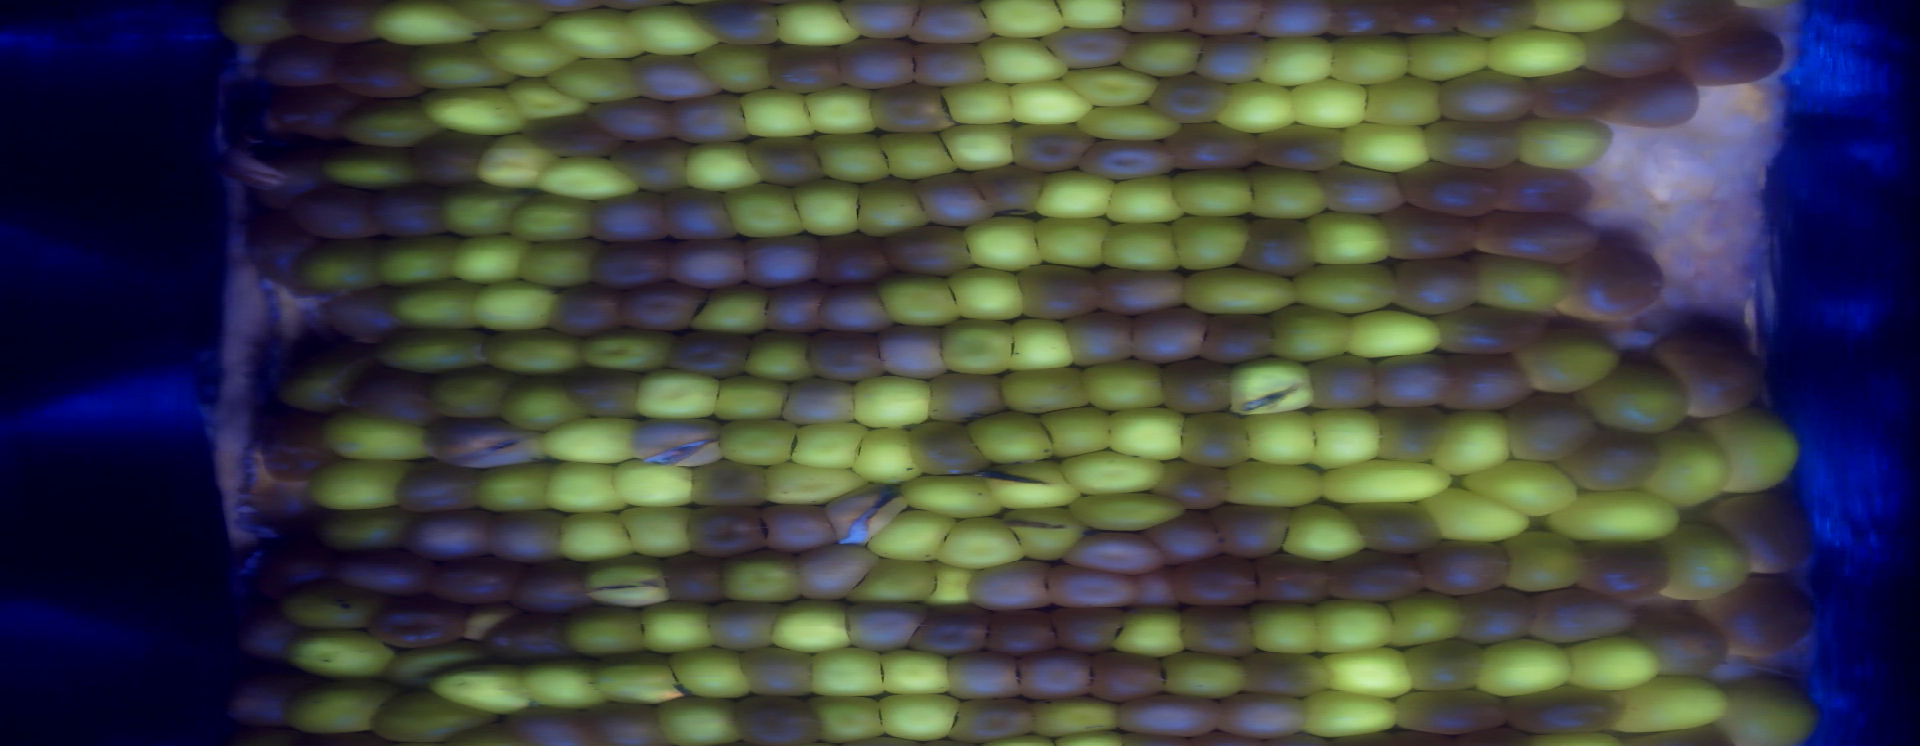fluorescent: (1572, 350, 1697, 440), (1700, 401, 1807, 496), (1545, 486, 1690, 551), (1704, 673, 1828, 746), (1651, 517, 1753, 605), (364, 684, 508, 746), (1513, 323, 1629, 402), (1633, 428, 1739, 512), (1604, 671, 1738, 736), (317, 402, 446, 468), (279, 669, 403, 737), (1455, 454, 1583, 519), (1176, 258, 1308, 321), (1315, 456, 1463, 511), (1467, 249, 1581, 320), (267, 341, 367, 419), (298, 454, 424, 516), (380, 632, 500, 696), (1558, 628, 1673, 695), (1469, 635, 1582, 702), (1414, 485, 1536, 548), (369, 323, 500, 380), (1288, 257, 1408, 318), (425, 658, 540, 722), (529, 412, 650, 472), (278, 622, 397, 684), (273, 577, 397, 636), (1507, 111, 1621, 175), (1273, 501, 1379, 570), (414, 81, 534, 141), (536, 5, 651, 67), (708, 544, 812, 612), (587, 642, 687, 713), (1479, 24, 1600, 83), (1423, 404, 1513, 483), (331, 94, 451, 153), (1496, 527, 1596, 598), (1303, 590, 1404, 659), (1340, 303, 1449, 366), (553, 600, 658, 666), (1331, 116, 1441, 179), (478, 323, 591, 383), (514, 650, 613, 719), (1223, 352, 1321, 420), (996, 502, 1101, 566), (311, 501, 422, 561), (1297, 205, 1400, 269), (1260, 301, 1360, 367), (861, 502, 961, 568), (660, 637, 760, 703), (527, 152, 644, 208), (1213, 456, 1331, 512), (405, 40, 524, 96), (384, 276, 490, 337), (1051, 447, 1173, 500), (498, 372, 598, 437), (627, 361, 726, 426), (470, 27, 584, 83), (718, 179, 816, 244), (1073, 356, 1174, 419), (932, 512, 1033, 575), (992, 361, 1100, 420), (842, 367, 938, 434), (1240, 156, 1332, 224), (936, 314, 1027, 382), (467, 127, 563, 192), (436, 178, 536, 240), (960, 405, 1060, 468), (893, 469, 1011, 522), (618, 1, 722, 61), (1318, 644, 1419, 706), (312, 138, 425, 194), (574, 322, 682, 380), (684, 276, 776, 343), (1300, 402, 1389, 472), (871, 267, 969, 330), (1240, 595, 1331, 663), (1162, 160, 1264, 220), (467, 274, 562, 338), (424, 363, 516, 429), (801, 641, 893, 707), (1296, 685, 1406, 740), (365, 1, 489, 50), (842, 549, 945, 608), (605, 456, 708, 514), (283, 233, 383, 293), (578, 552, 678, 612), (1064, 488, 1190, 535), (463, 458, 557, 522), (971, 31, 1078, 87), (1166, 211, 1256, 277), (1101, 404, 1191, 470), (1322, 29, 1418, 92), (1379, 586, 1471, 650), (1398, 24, 1498, 85), (1207, 77, 1304, 138), (1025, 164, 1122, 225), (370, 230, 467, 292), (763, 597, 860, 658), (943, 260, 1032, 326), (680, 135, 771, 198), (708, 412, 803, 473), (1096, 216, 1189, 278), (956, 211, 1049, 273), (444, 227, 534, 292), (633, 594, 722, 659), (1155, 644, 1258, 701), (1250, 29, 1344, 91), (542, 54, 649, 108), (612, 501, 704, 563), (798, 688, 898, 746), (509, 234, 602, 295), (549, 506, 640, 567), (1027, 211, 1116, 274), (873, 686, 969, 745), (852, 174, 936, 241), (691, 40, 784, 100), (800, 78, 887, 142), (978, 459, 1082, 512), (651, 692, 753, 746), (933, 115, 1022, 176), (1116, 26, 1210, 83), (1032, 401, 1116, 465), (873, 126, 965, 185), (790, 171, 867, 241), (784, 416, 873, 477), (708, 365, 793, 428), (1360, 72, 1451, 131), (1101, 169, 1191, 228), (1104, 603, 1191, 664), (1288, 73, 1376, 134), (536, 454, 624, 514), (1057, 61, 1162, 111), (1000, 311, 1082, 375), (501, 194, 600, 246), (768, 1, 866, 54), (845, 421, 927, 484), (1240, 405, 1322, 468), (733, 85, 820, 143), (869, 642, 958, 699), (736, 327, 820, 387), (208, 1, 309, 51), (809, 127, 895, 186), (498, 71, 595, 122), (1022, 692, 1127, 740), (1002, 76, 1096, 127), (934, 76, 1024, 129), (1073, 104, 1188, 145), (969, 1, 1071, 42), (1524, 1, 1635, 37), (447, 1, 556, 36), (922, 557, 981, 611), (1049, 1, 1131, 33)
nonfluorescent: (1648, 330, 1771, 425), (1696, 573, 1826, 661), (1707, 489, 1823, 577), (220, 131, 342, 209), (1467, 205, 1608, 271), (1559, 243, 1671, 323), (1630, 604, 1738, 688), (1553, 423, 1668, 500), (1495, 680, 1633, 741), (416, 412, 551, 474), (1669, 23, 1795, 89), (246, 517, 338, 606), (1423, 303, 1559, 361), (1502, 385, 1600, 465), (1521, 583, 1642, 648), (1570, 20, 1689, 86), (258, 78, 372, 147), (1392, 157, 1510, 222), (212, 660, 320, 730), (1435, 347, 1540, 418), (1575, 535, 1676, 609), (360, 590, 476, 654), (327, 37, 432, 105), (1600, 70, 1709, 136), (820, 473, 912, 551), (1412, 535, 1520, 601), (1417, 114, 1531, 176), (340, 366, 446, 434), (1389, 684, 1520, 737), (1341, 496, 1453, 559), (328, 543, 438, 606), (1490, 157, 1600, 220), (394, 503, 506, 566), (1434, 65, 1543, 129), (1384, 254, 1487, 321), (606, 134, 703, 205), (1364, 344, 1462, 414), (280, 181, 386, 246), (1325, 545, 1431, 609), (1380, 202, 1487, 265), (1109, 690, 1236, 742), (473, 609, 580, 670), (876, 220, 981, 283), (1013, 260, 1112, 326), (424, 550, 527, 614), (621, 412, 727, 473), (1171, 597, 1267, 664), (1247, 119, 1357, 178), (1057, 529, 1173, 584), (1158, 119, 1267, 178), (1526, 69, 1635, 127), (622, 47, 729, 107), (223, 597, 312, 668), (1167, 550, 1269, 612), (389, 454, 485, 521), (725, 687, 831, 746), (1236, 644, 1342, 703), (1084, 263, 1194, 320), (1124, 303, 1216, 370), (835, 597, 932, 660), (273, 1, 394, 51), (1035, 559, 1147, 612), (659, 234, 756, 296), (612, 274, 709, 337), (965, 556, 1062, 619), (400, 126, 493, 191), (1233, 213, 1322, 281), (518, 110, 627, 165), (251, 29, 345, 93), (1142, 510, 1237, 573), (1206, 686, 1318, 740), (1401, 635, 1495, 698), (677, 501, 775, 562), (482, 505, 578, 567), (1244, 546, 1340, 609), (1008, 641, 1100, 706), (240, 212, 320, 287), (737, 129, 830, 192), (504, 555, 598, 619), (1314, 160, 1411, 222), (812, 227, 902, 292), (737, 229, 829, 293), (362, 178, 451, 244), (904, 415, 992, 481), (1300, 352, 1389, 418), (737, 639, 827, 704), (920, 366, 1014, 428), (1004, 118, 1100, 178), (902, 601, 998, 661), (802, 323, 890, 388), (1452, 586, 1545, 647), (867, 78, 959, 140), (1191, 309, 1284, 369), (662, 323, 756, 383), (318, 284, 411, 344), (964, 158, 1053, 220), (699, 592, 789, 654), (659, 183, 744, 247), (1618, 1, 1744, 45), (1142, 70, 1237, 129), (684, 451, 771, 514), (756, 497, 844, 560), (791, 540, 879, 603), (1082, 643, 1171, 706), (584, 239, 680, 296), (256, 405, 331, 479), (1035, 22, 1139, 75), (1076, 132, 1180, 185), (495, 699, 612, 746), (909, 168, 994, 232), (1151, 354, 1237, 418), (1210, 500, 1298, 561), (938, 647, 1030, 706), (558, 360, 643, 424), (942, 695, 1046, 746), (1371, 401, 1452, 467), (662, 89, 753, 148), (774, 372, 864, 431), (587, 187, 675, 247), (1048, 599, 1133, 661), (869, 320, 949, 386), (830, 36, 920, 94), (1058, 307, 1140, 371), (584, 93, 683, 146), (902, 38, 997, 93), (542, 281, 628, 341), (1190, 29, 1275, 89), (1150, 456, 1236, 514), (762, 42, 852, 97), (980, 608, 1070, 661), (813, 279, 894, 339), (684, 1, 782, 49), (901, 1, 999, 49), (579, 696, 670, 746), (823, 1, 926, 45), (655, 548, 727, 609), (760, 281, 834, 339), (1451, 1, 1544, 44), (1250, 1, 1340, 45), (1113, 1, 1205, 42), (1322, 1, 1404, 43), (1187, 1, 1273, 40), (1386, 1, 1468, 39), (1124, 567, 1188, 615)
